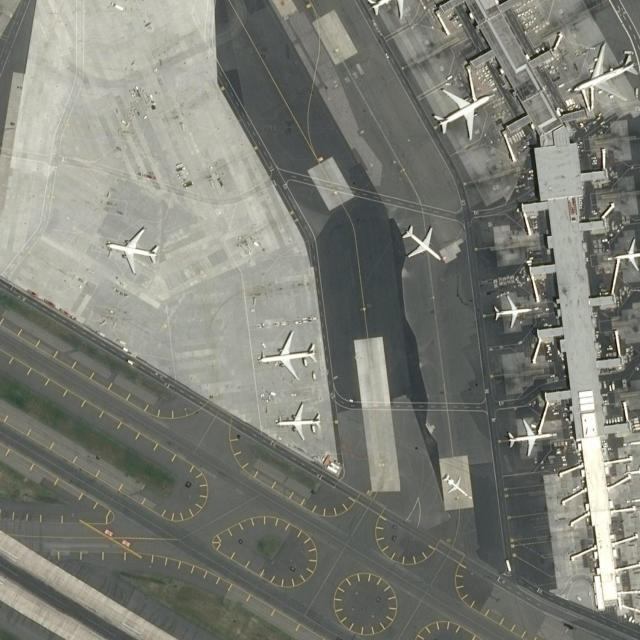Aircraft: (571, 41, 639, 103), (431, 84, 491, 140), (257, 330, 317, 380), (105, 224, 159, 273), (398, 221, 444, 263), (275, 401, 323, 441), (505, 418, 553, 457), (491, 291, 533, 327), (363, 0, 423, 20), (611, 237, 639, 272), (440, 470, 472, 500), (624, 460, 640, 482), (627, 429, 640, 452), (629, 491, 640, 509)
